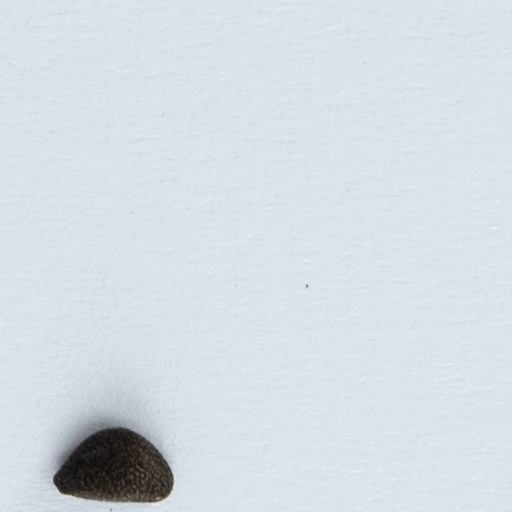Convolvulus-poly: (49, 422, 176, 504)
